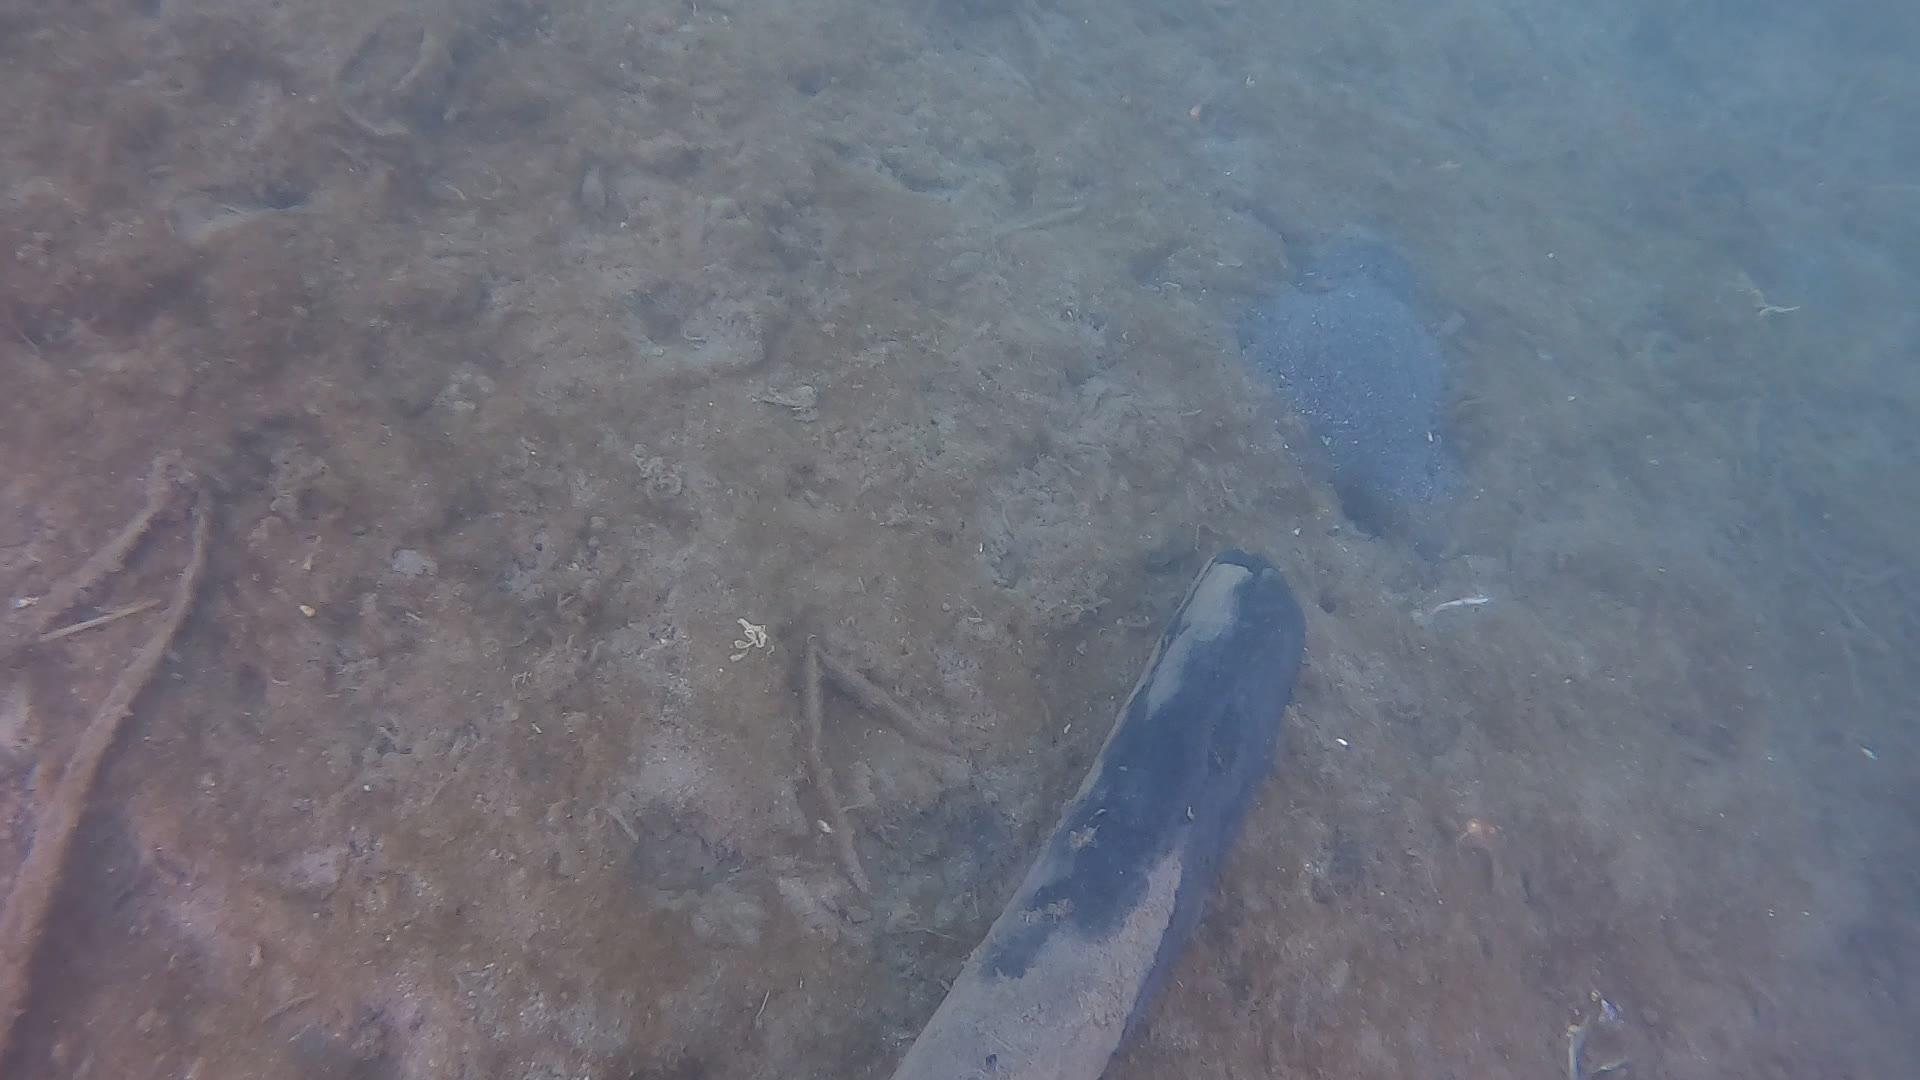wood: (881, 546, 1305, 1080)
